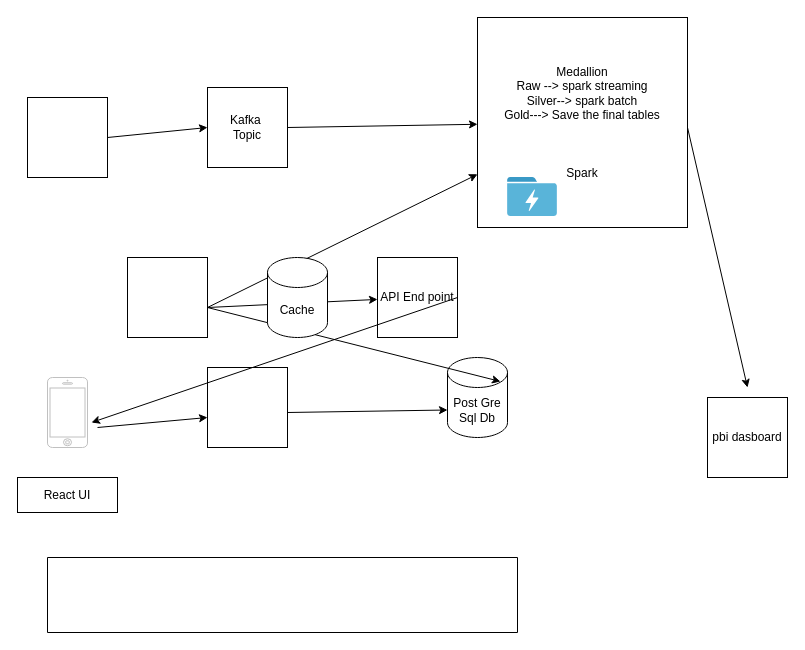
Image size: 805x650. Some labels were removed from this diagram. The shapes that lost their labels are listed below. From the top down, each one's centre as x and y in pixels, then its label:
At point 67,137: "IOT Sensor Data".
At point 167,297: "Python Service ML".
At point 247,407: "Spring boot Java Rest API".
At point 282,594: "Docker".
